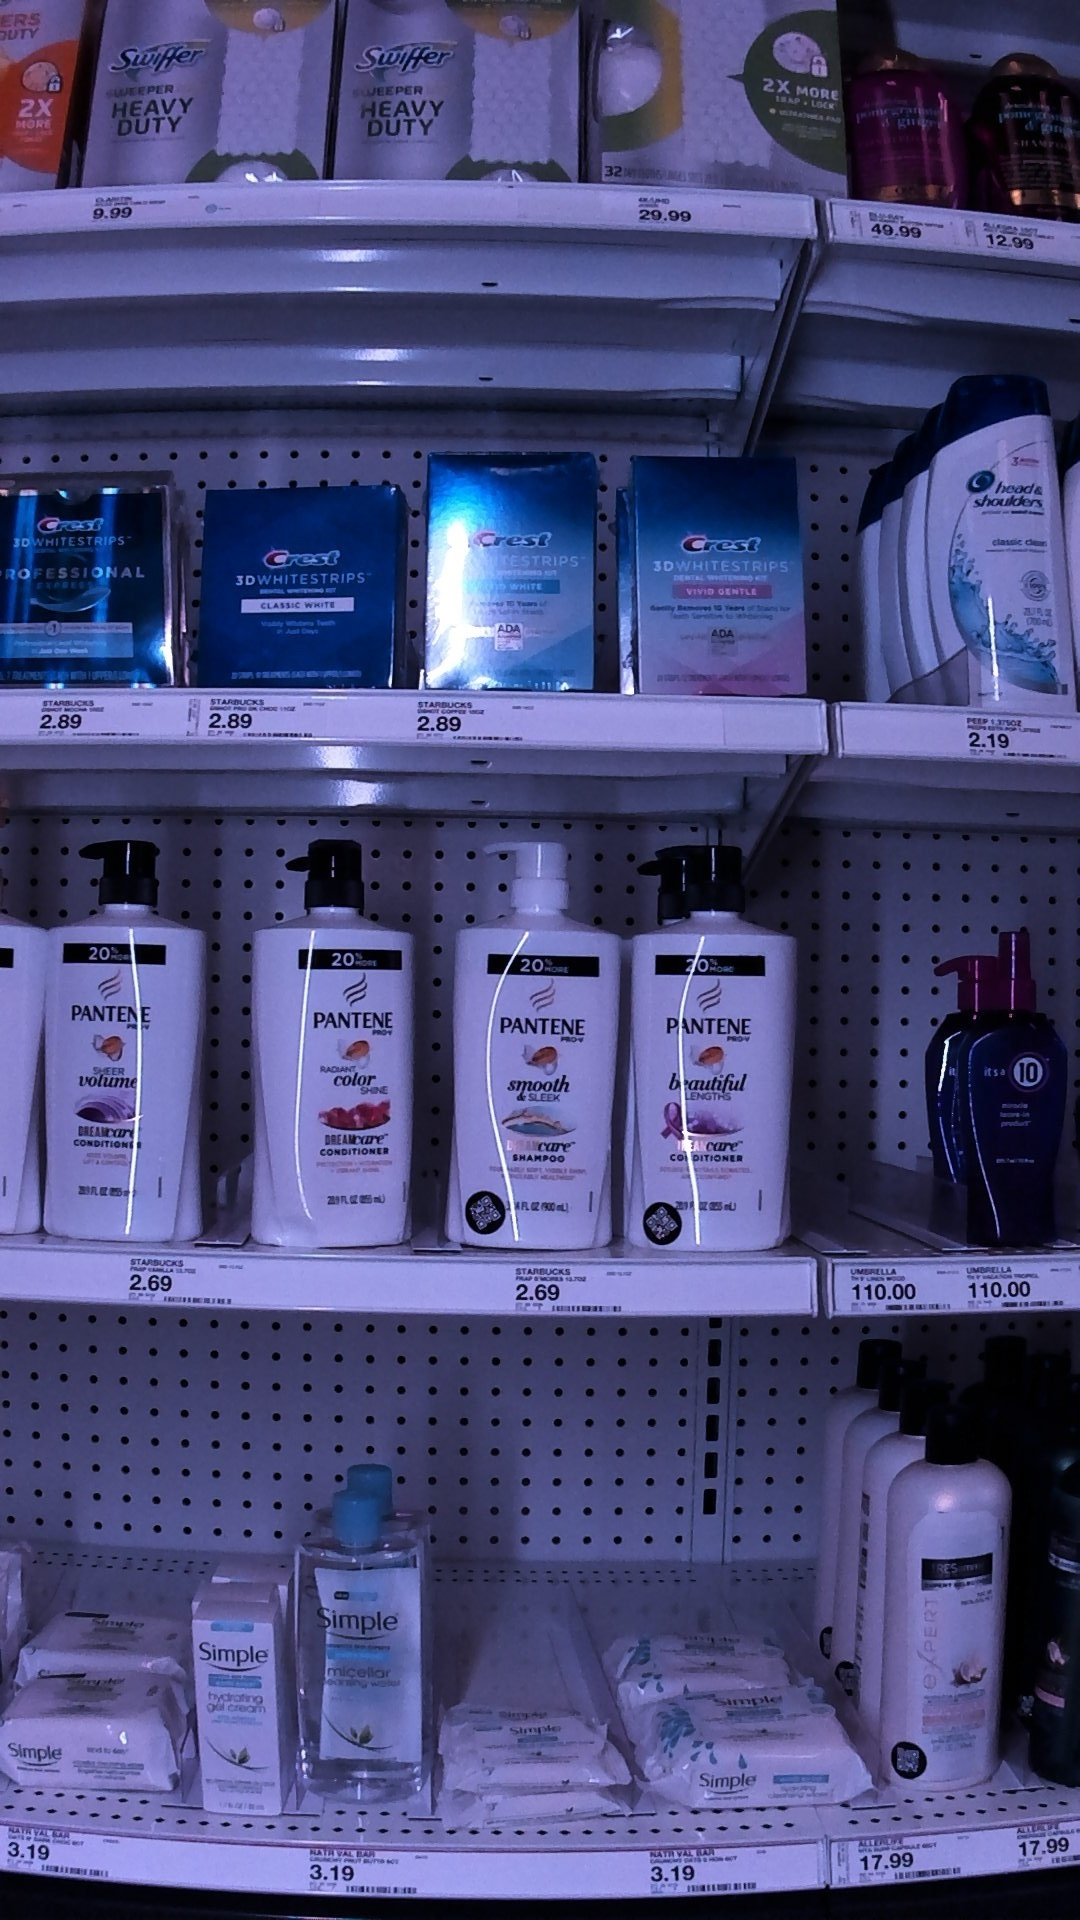ptag: (498, 1253, 638, 1329), (185, 686, 335, 752), (123, 1240, 255, 1313), (825, 1822, 973, 1886), (964, 1246, 1073, 1327), (638, 1840, 775, 1902), (409, 691, 533, 752), (824, 1261, 951, 1320), (306, 1842, 419, 1905), (949, 709, 1073, 766), (9, 1820, 117, 1882), (969, 208, 1065, 273), (36, 686, 142, 742), (843, 196, 935, 255), (86, 177, 173, 233), (1004, 1815, 1080, 1876), (633, 179, 698, 235)
